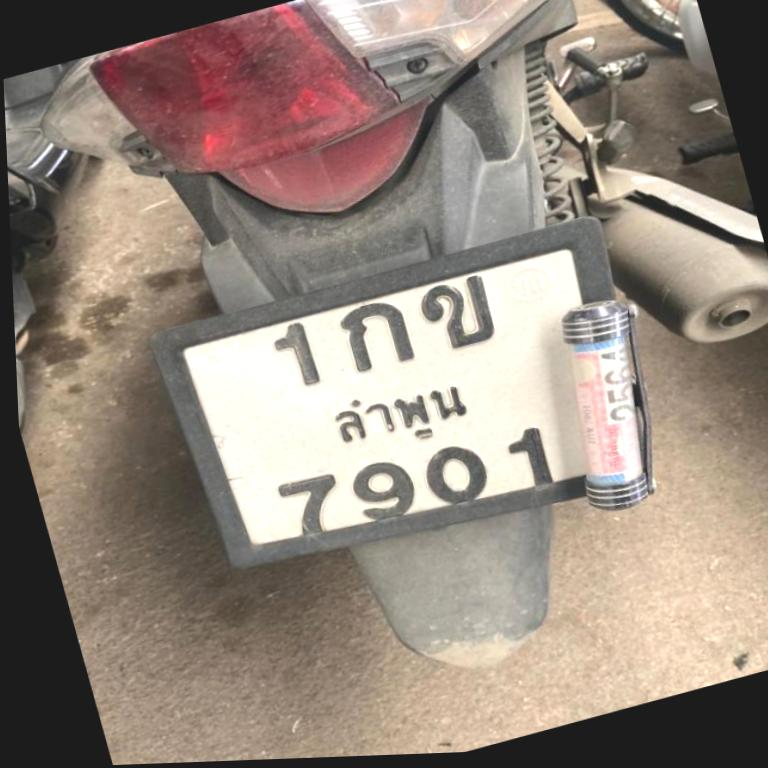license plate: (152, 220, 613, 564)
